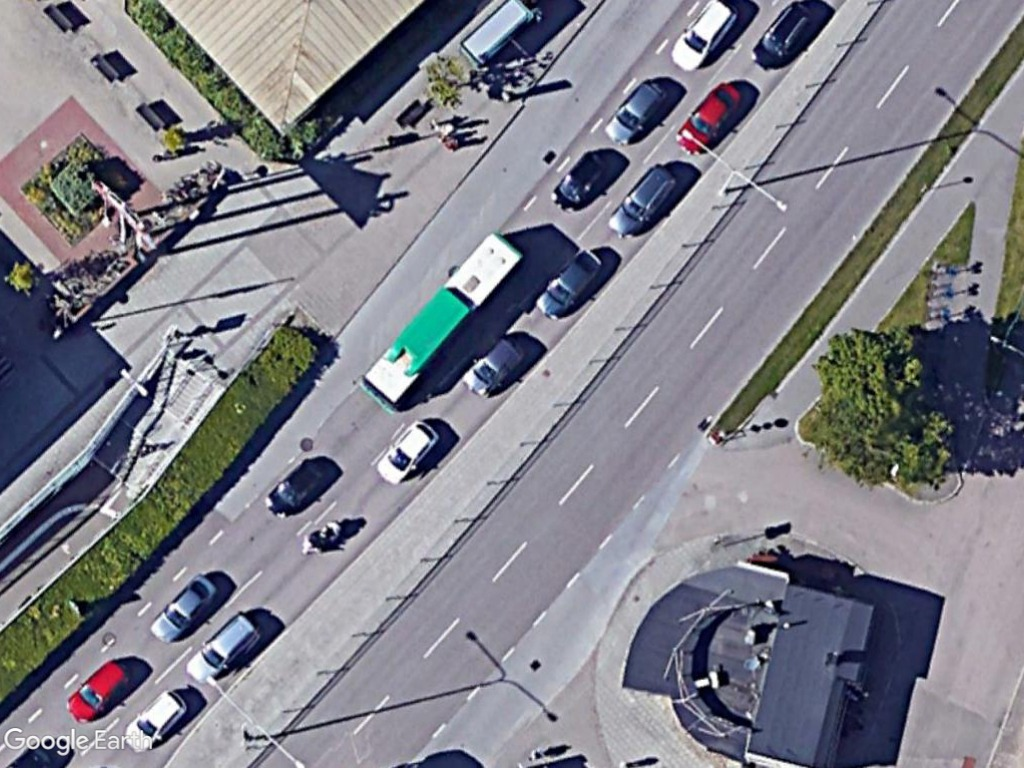bus: (354, 228, 525, 416)
car: (671, 75, 745, 161), (531, 244, 609, 325), (146, 567, 225, 646), (597, 70, 676, 147), (604, 161, 683, 238), (662, 0, 743, 70), (746, 0, 818, 75), (373, 416, 445, 488), (122, 684, 196, 754), (62, 656, 132, 728), (262, 453, 331, 523), (462, 329, 527, 398), (548, 145, 613, 213)
van: (183, 607, 262, 687)
